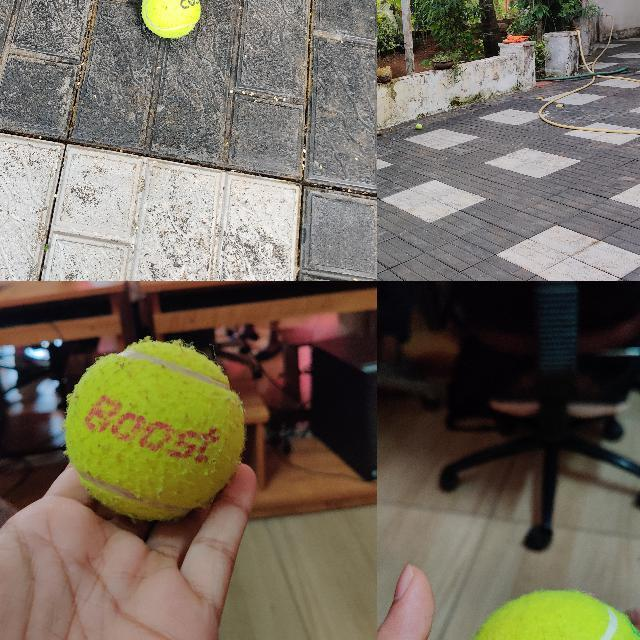tennis-ball: (64, 339, 244, 519), (456, 590, 639, 639), (139, 0, 201, 39), (416, 123, 422, 129)
